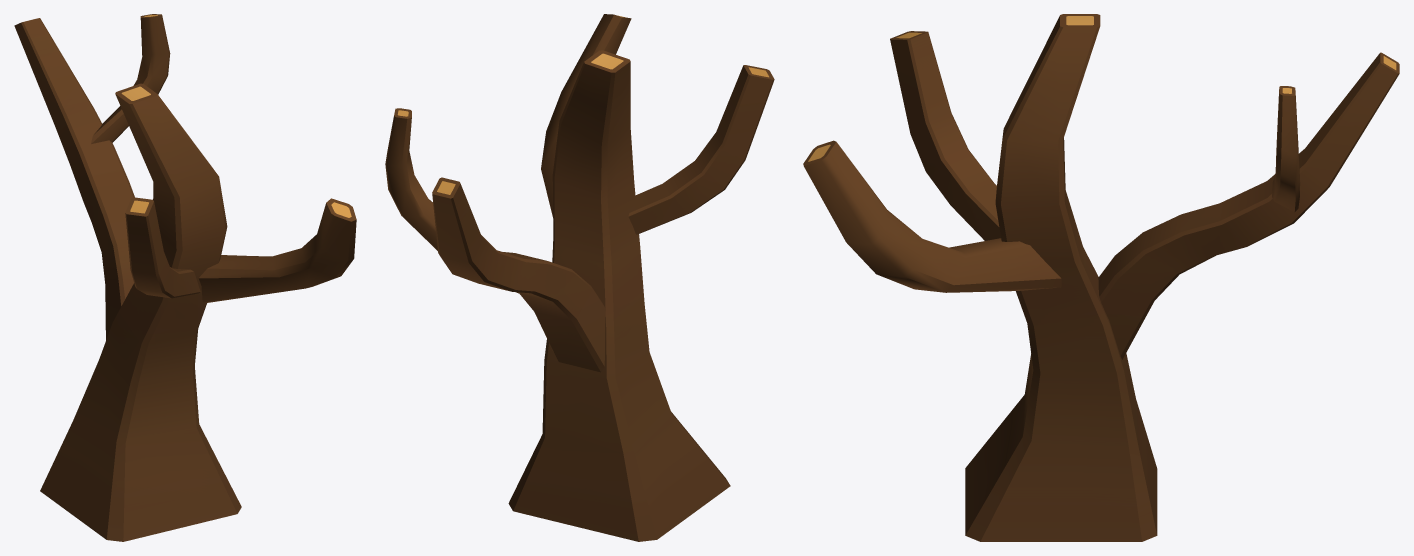
File: Tree_4_1.glb
3 renders of one model, left to right at view 1: azimuth 30°, elevation 25°; view 2: azimuth 150°, elevation 25°; view 3: azimuth 270°, elevation 25°, orthographic. The views are drawn at different scales.
Visible parts, largest first — view 1: Tree_4_1; view 2: Tree_4_1; view 3: Tree_4_1.
Boxes of the visible parts, <box> form: Tree_4_1: <box>14,14,356,541</box>; Tree_4_1: <box>385,14,774,541</box>; Tree_4_1: <box>803,14,1399,541</box>.
Bounding box in the file's own units: 1.53 × 2.81 × 3.13.
1 material, 1 textured.
